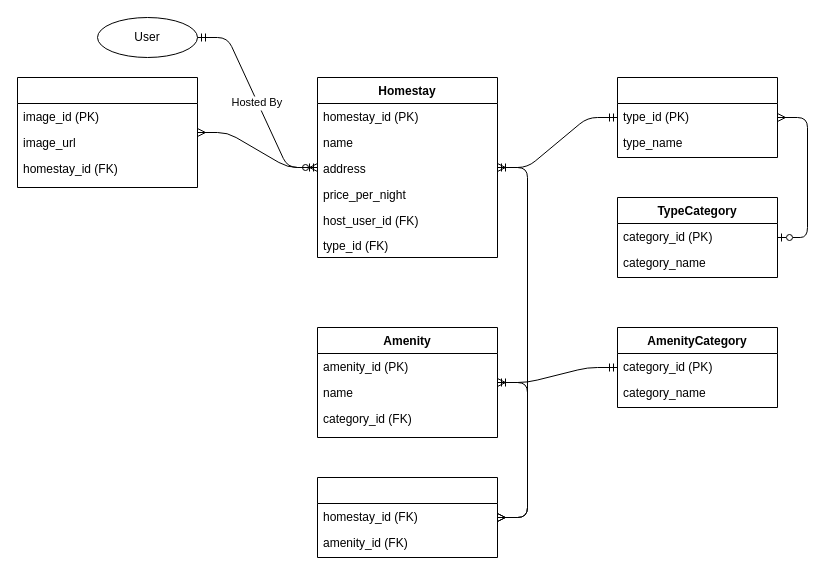
Some shapes in this 834 by 575 pixel diagram are drawn without their labels. Each missing label, with the box of its shape:
Homestay_Amenity: (316, 476, 498, 558)
HomestayImage: (16, 76, 198, 188)
HomestayType: (616, 76, 778, 158)
